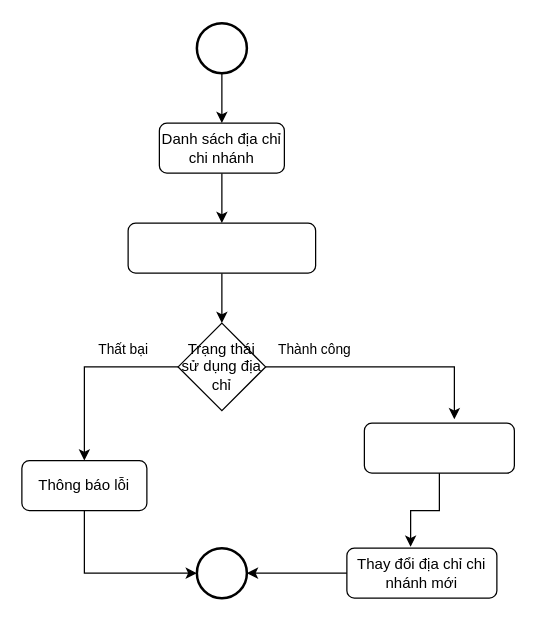
Some shapes in this 536 by 620 pixel diagram are drawn without their labels. The shapes that lost their labels are listed below. From the top down, each one's box as (x1, y1, x2, y2) in pixels, then its label:
(127, 222, 316, 273): Sử dụng địa chỉ mặc định
(363, 422, 514, 473): Thông báo thay đổi địa chỉ thành công
